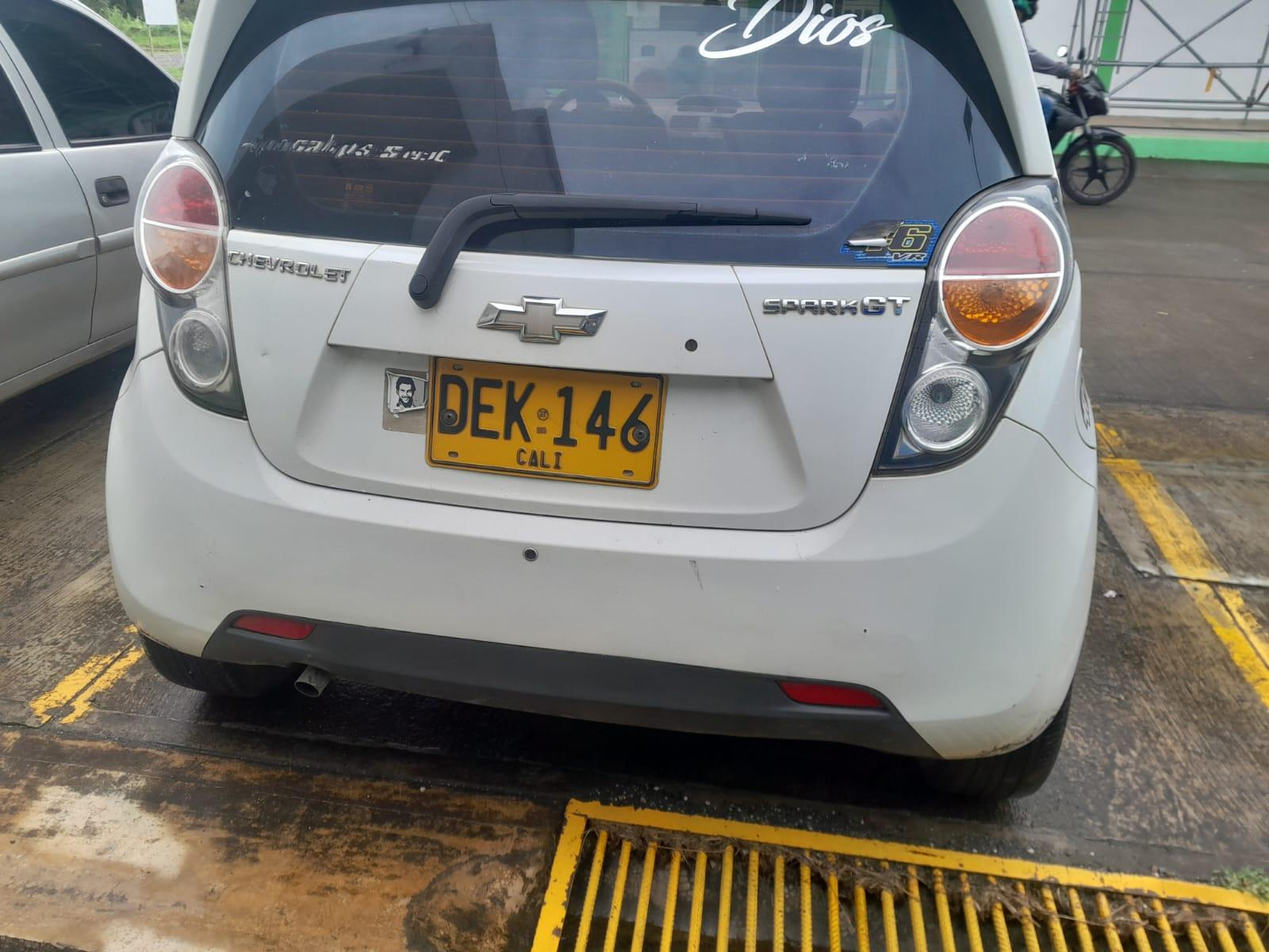placa: (427, 358, 665, 487)
